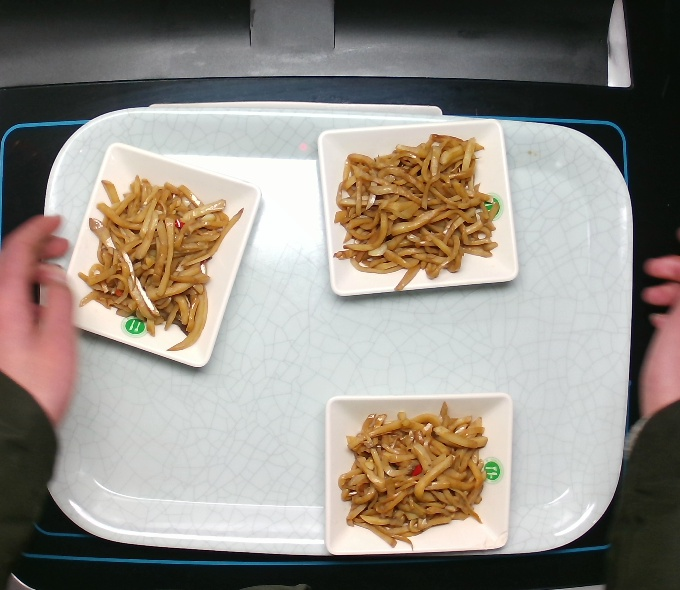wcq-LiangBanMoGu: (69, 167, 248, 354), (327, 127, 504, 298), (333, 398, 499, 555)
